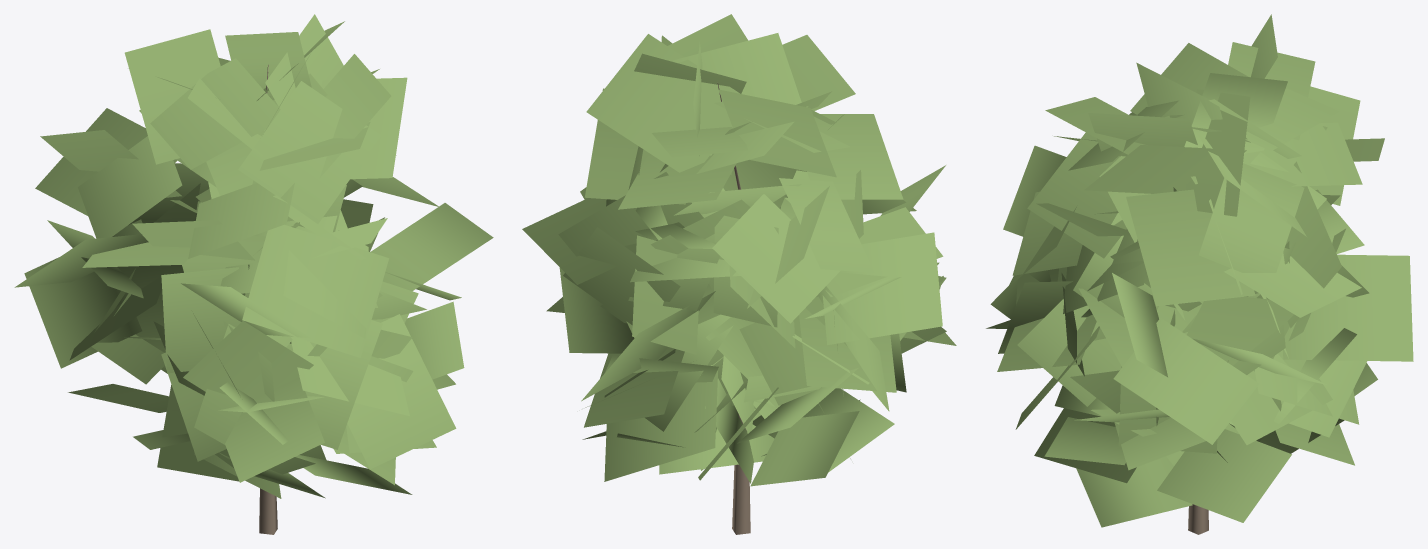
The model's file is Broadleaf_11_young_lod2.glb.
3 renders of one model, left to right at view 1: azimuth 30°, elevation 25°; view 2: azimuth 150°, elevation 25°; view 3: azimuth 270°, elevation 25°, orthographic. The views are drawn at different scales.
Parts seen in each view (by area): view 1: Broadleaf_11_young_lod2; view 2: Broadleaf_11_young_lod2; view 3: Broadleaf_11_young_lod2.
Part boxes in pixels (x1,y1,x2,y2): Broadleaf_11_young_lod2: [14, 14, 493, 534]; Broadleaf_11_young_lod2: [522, 14, 956, 534]; Broadleaf_11_young_lod2: [986, 14, 1413, 534].
Bounding box in the file's own units: 5.92 × 6.52 × 5.33.
